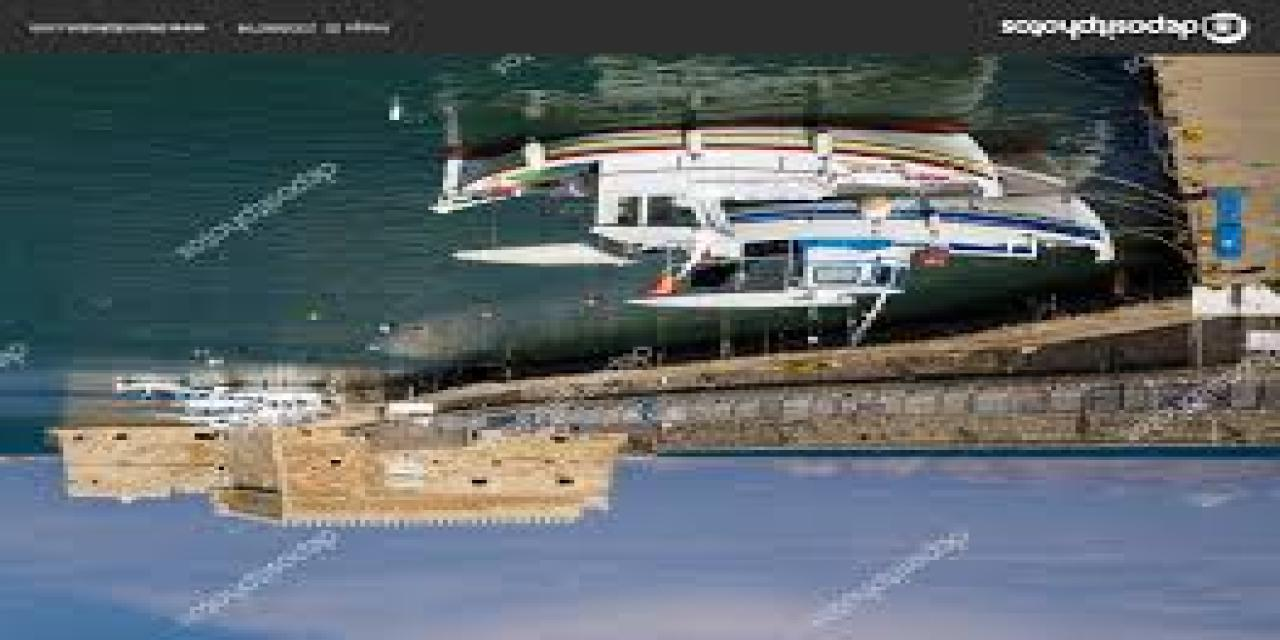Kules: (47, 425, 619, 530)
